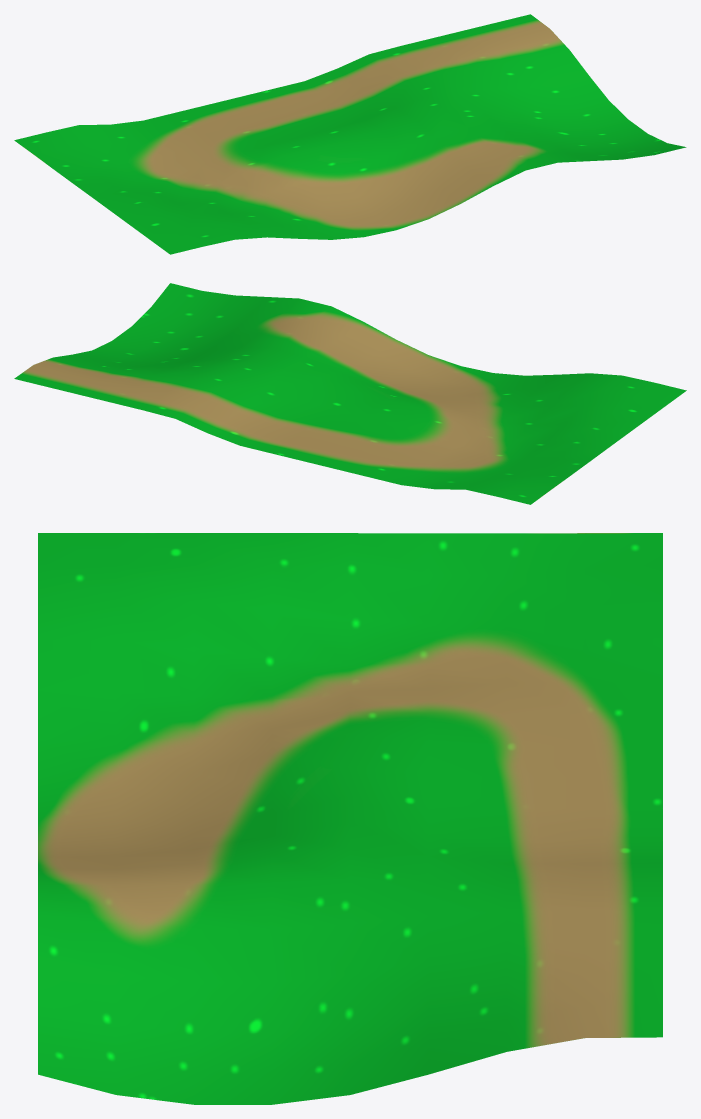
Rendered from terrain.glb.
3 views of the same model, one above another, from view 1: azimuth 30°, elevation 25°; view 2: azimuth 150°, elevation 25°; view 3: azimuth 270°, elevation 25° (orthographic). The views are drawn at different scales.
Visible parts, largest first — view 1: terrain-col; view 2: terrain-col; view 3: terrain-col.
Boxes of the visible parts, x1=… form: terrain-col: x1=14, y1=14, x2=686, y2=254; terrain-col: x1=14, y1=283, x2=686, y2=504; terrain-col: x1=38, y1=533, x2=662, y2=1104.
Bounding box in the file's own units: 471 × 29.36 × 247.
Materials: 1 (1 with a texture image).
